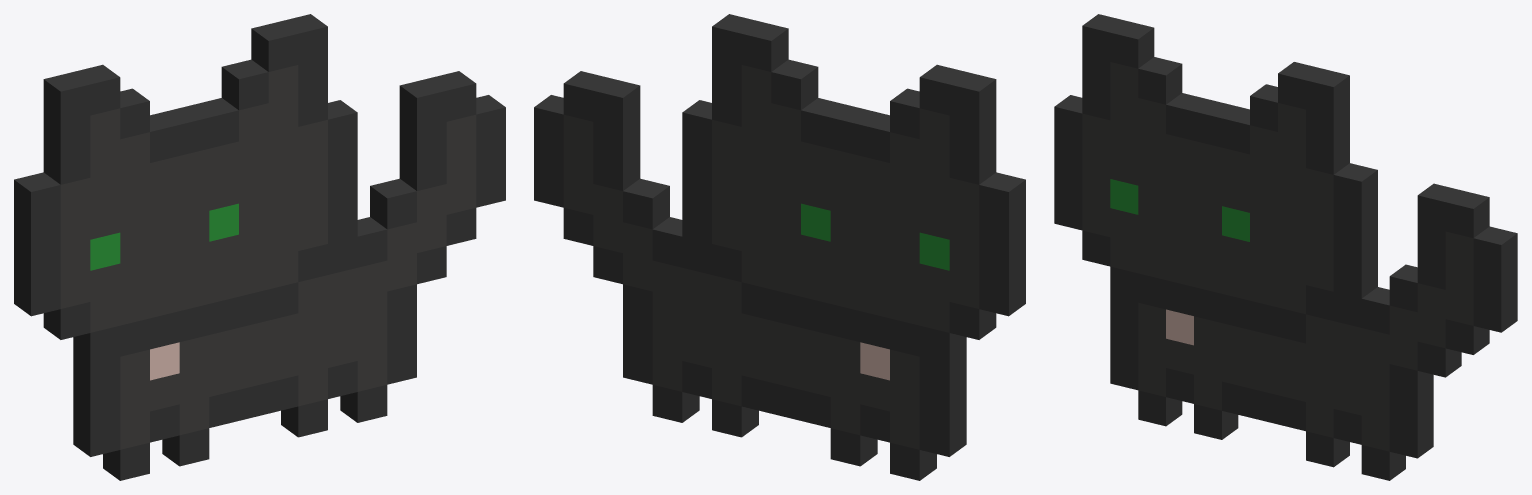
The model's file is smol-cat-black.gltf.
3 renders of one model, left to right at view 1: azimuth 30°, elevation 25°; view 2: azimuth 150°, elevation 25°; view 3: azimuth 330°, elevation 25°, orthographic. The views are drawn at different scales.
Parts seen in each view (by area): view 1: node 1; view 2: node 1; view 3: node 1.
Part boxes in pixels (box(x1,y1,x2,y2)): node 1: box(14, 14, 505, 480); node 1: box(534, 14, 1025, 480); node 1: box(1054, 14, 1517, 480).
Bounding box in the file's own units: 16 × 13 × 1.
Materials: 1 (1 with a texture image).
